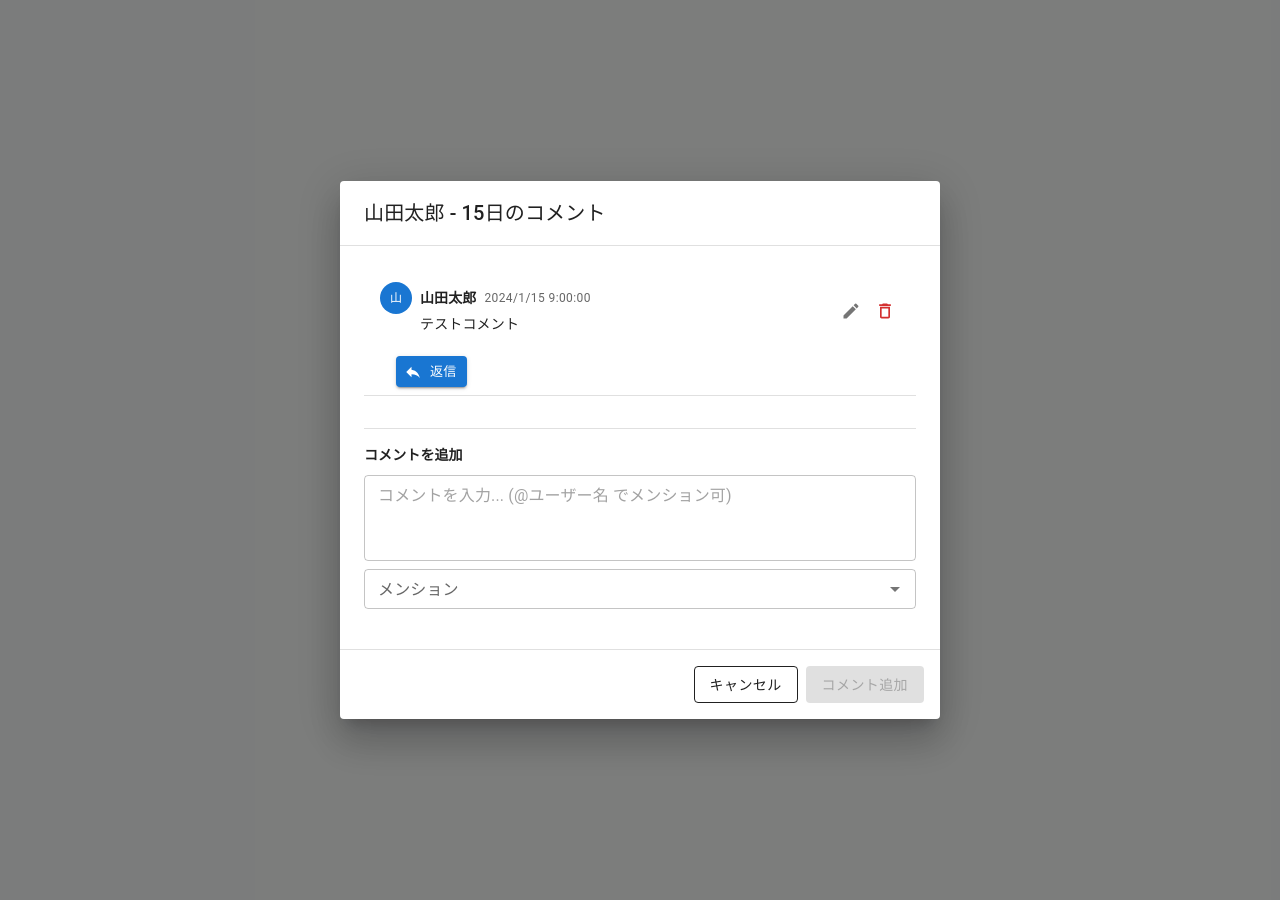
Test: CellCommentDialog › コメント編集 › 編集ボタンをクリックすると編集フォームが表示される
Click the button named "編集" at (851, 311), box [836, 296, 866, 326]
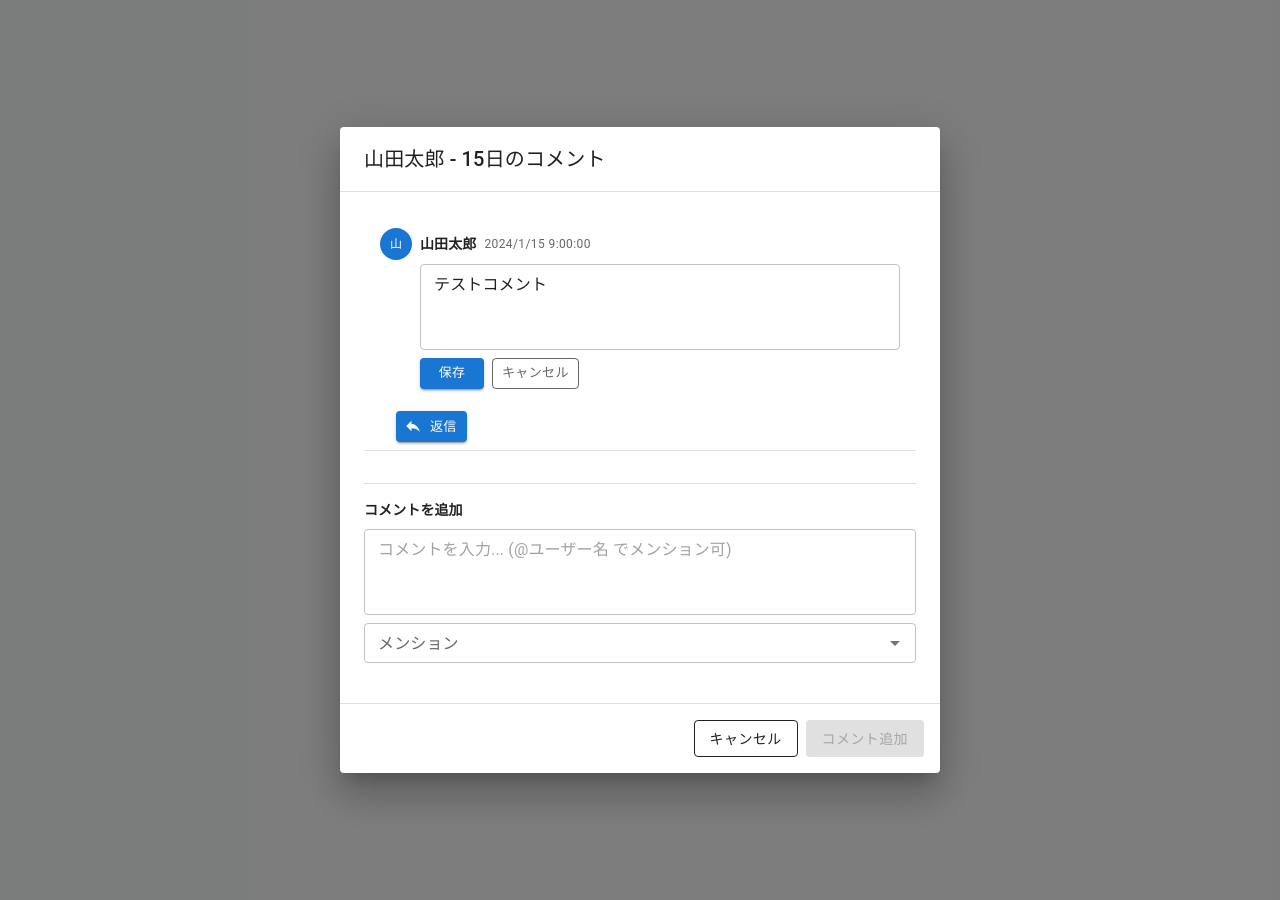
Result: the text box showing "テストコメント" is shown at [434, 272, 886, 342]
Result: the button "保存" is shown at [420, 358, 484, 389]
